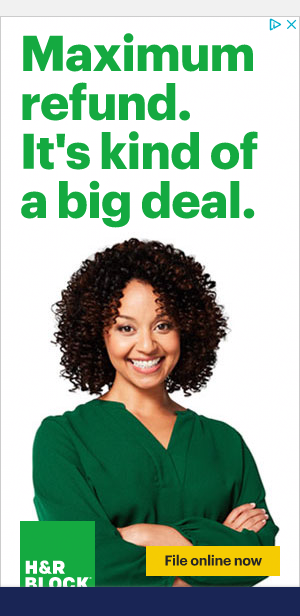fake_button: (140, 544, 286, 590)
